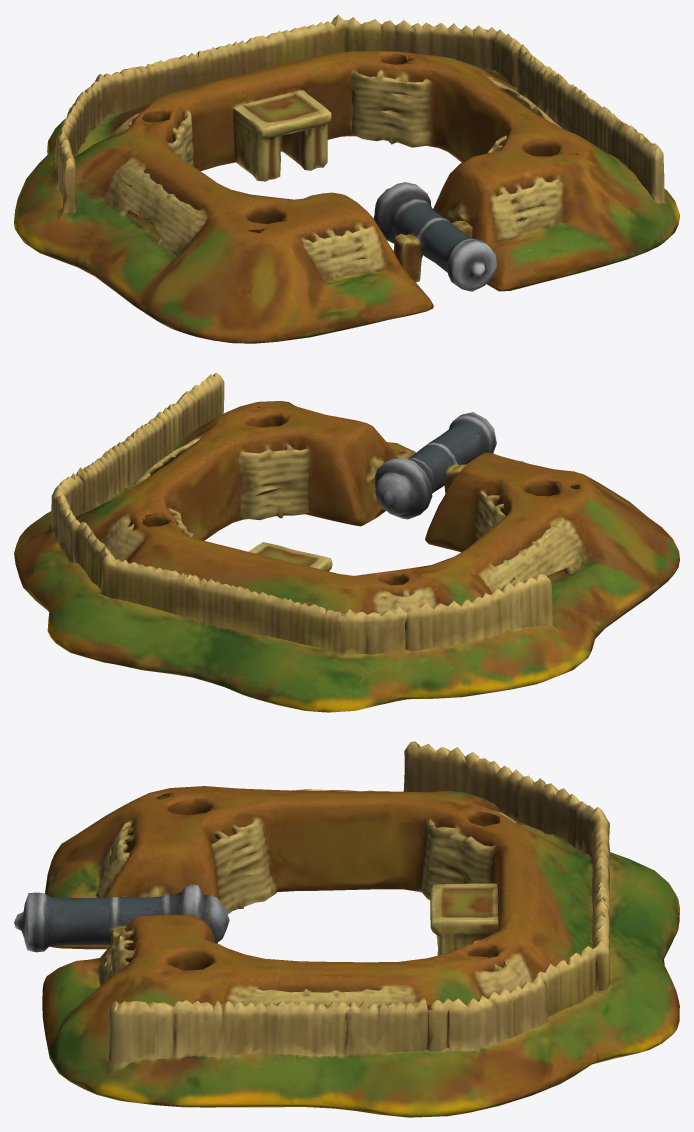
File: redoubt_a.glb
3 renders of one model, top to bottom at view 1: azimuth 30°, elevation 25°; view 2: azimuth 150°, elevation 25°; view 3: azimuth 270°, elevation 25°, orthographic. The views are drawn at different scales.
Parts seen in each view (by area): view 1: world; view 2: world; view 3: world.
Boxes of the visible parts, x1,y1,x2,y2 form: world: (14,14,679,343); world: (14,372,679,712); world: (14,741,679,1117).
Size of the model in its own units: 1 by 0.1503 by 0.9244.
1 material, 1 textured.
